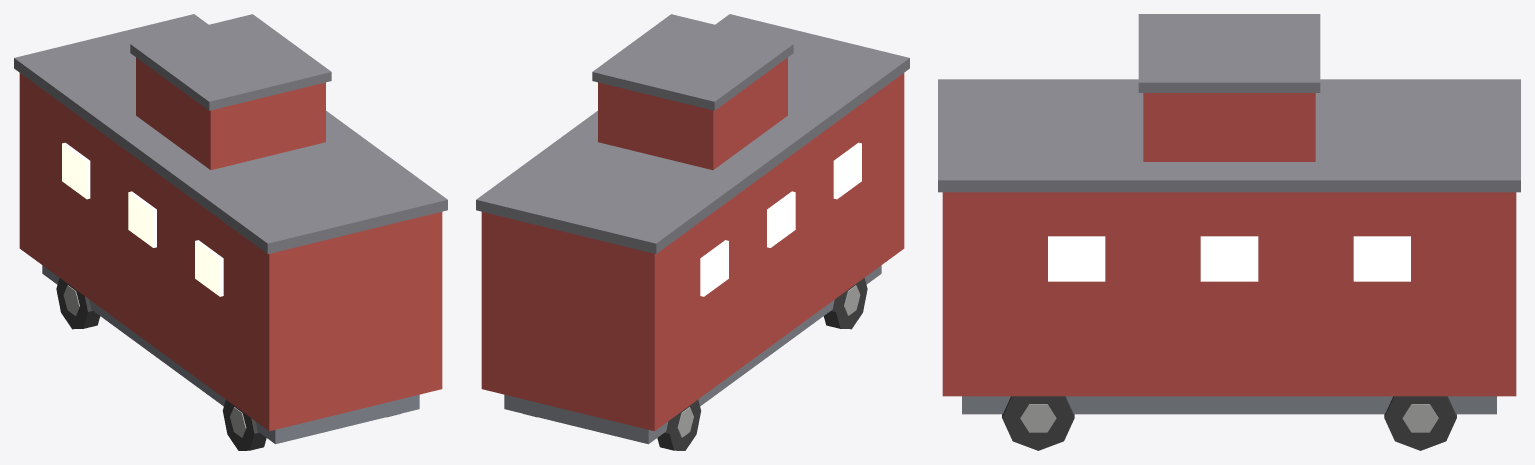
The model's file is caboose.glb.
3 renders of one model, left to right at view 1: azimuth 30°, elevation 25°; view 2: azimuth 150°, elevation 25°; view 3: azimuth 270°, elevation 25°, orthographic. The views are drawn at different scales.
Parts seen in each view (by area): view 1: caboose; view 2: caboose; view 3: caboose.
Boxes of the visible parts, box(x1,y1,x2,y2) form: caboose: box(14, 14, 447, 450); caboose: box(476, 14, 909, 450); caboose: box(938, 14, 1520, 450).
Bounding box in the file's own units: 2.5 × 4.16 × 6.1.
